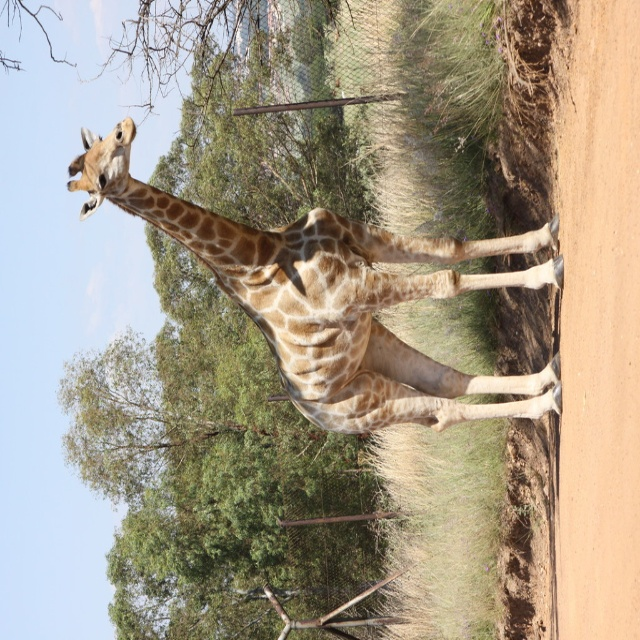Giraffe: (65, 113, 564, 437)
